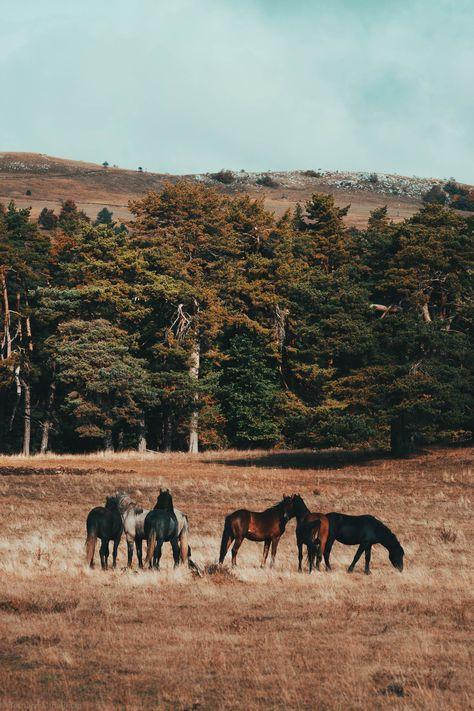horse: (218, 492, 309, 568), (296, 511, 404, 575)
